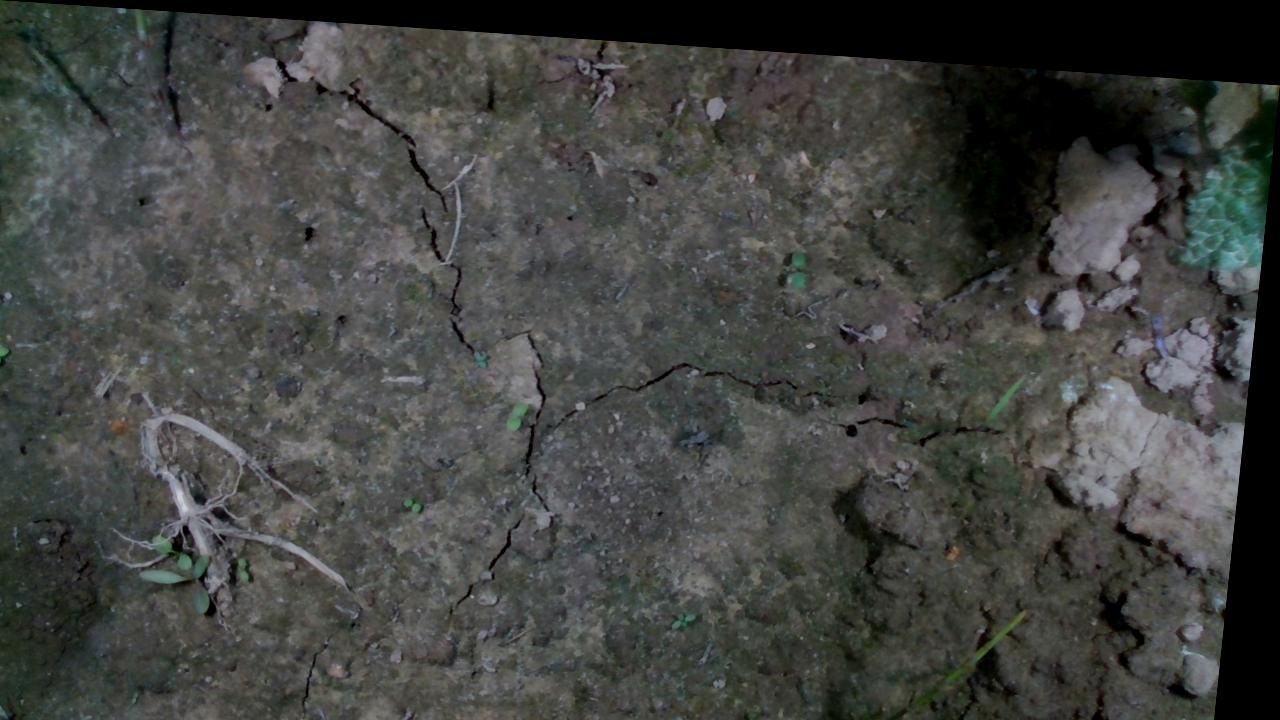weed: (791, 238, 814, 277), (513, 390, 537, 424), (685, 599, 710, 620), (246, 550, 263, 579), (409, 488, 431, 506), (0, 343, 15, 368)
